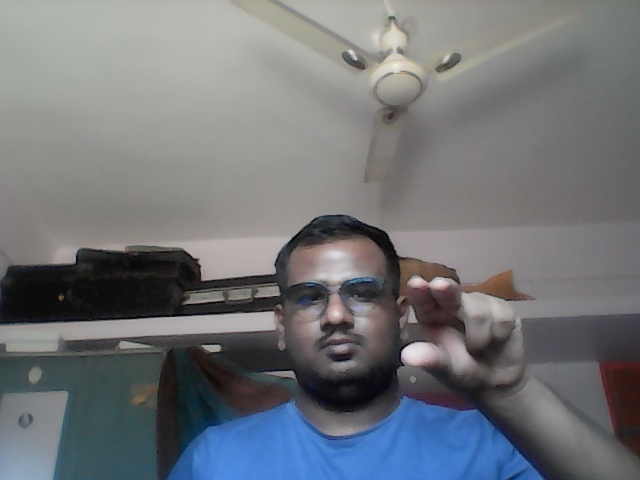No: (398, 271, 536, 392)
